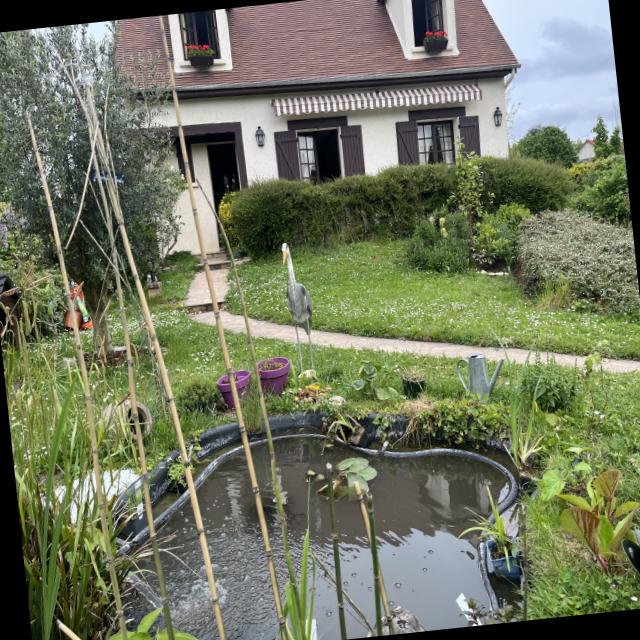Heron: (262, 235, 328, 388)
